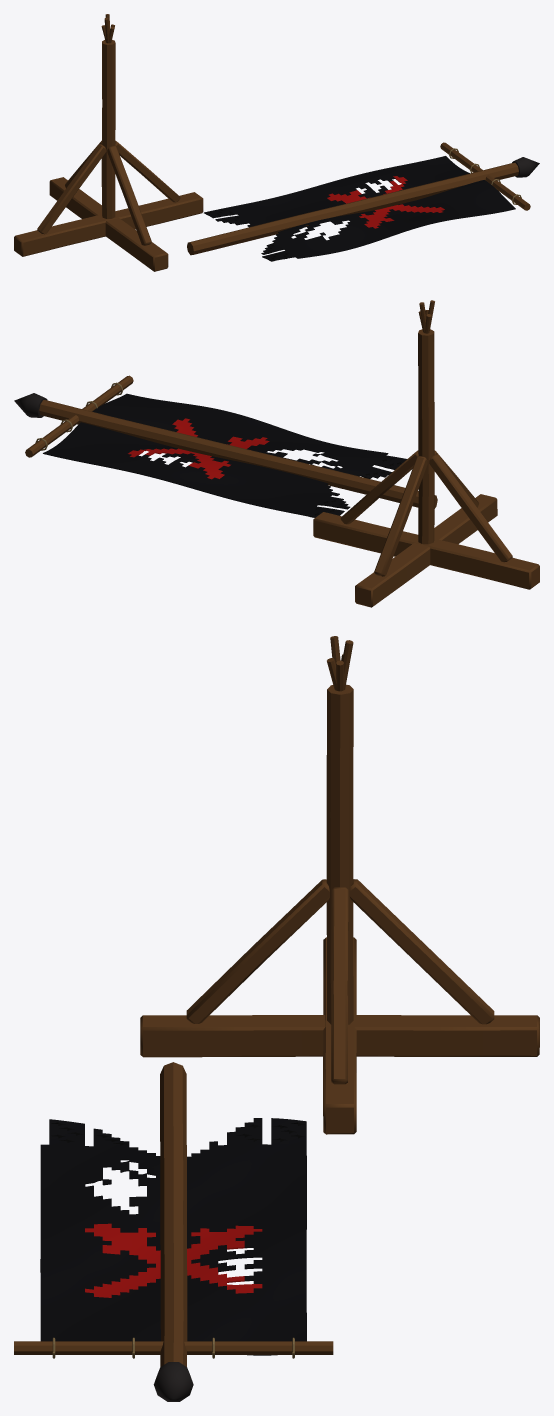
The model's file is banner_schwarz_kaputt.glb.
3 renders of one model, top to bottom at view 1: azimuth 30°, elevation 25°; view 2: azimuth 150°, elevation 25°; view 3: azimuth 270°, elevation 25°, orthographic. The views are drawn at different scales.
Visible parts, largest first — view 1: banner_schwarz_kaputt; view 2: banner_schwarz_kaputt; view 3: banner_schwarz_kaputt.
Part boxes in pixels (x1,y1,x2,y2): banner_schwarz_kaputt: [14, 14, 539, 271]; banner_schwarz_kaputt: [14, 300, 539, 607]; banner_schwarz_kaputt: [14, 636, 539, 1401].
Size of the model in its own units: 3.16 by 1.38 by 1.58.
